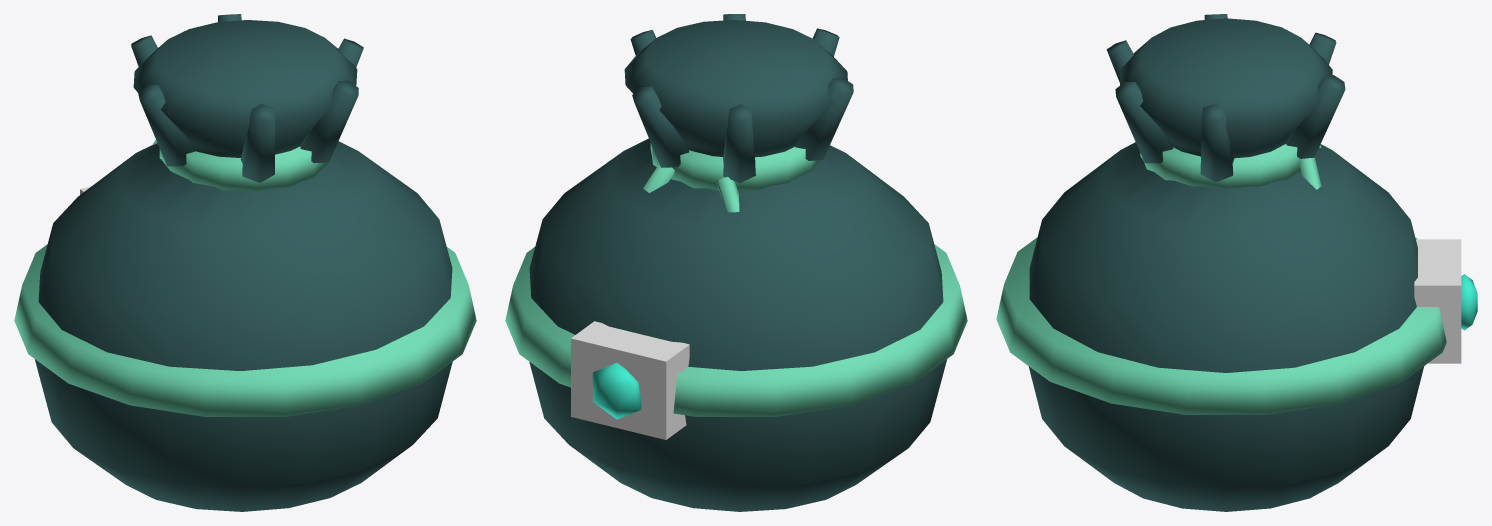
The model's file is moon_lord_treasure_bag.glb.
3 renders of one model, left to right at view 1: azimuth 30°, elevation 25°; view 2: azimuth 150°, elevation 25°; view 3: azimuth 270°, elevation 25°, orthographic.
Visible parts, largest first — view 1: moon_lord_treasure_bag_v0; view 2: moon_lord_treasure_bag_v0; view 3: moon_lord_treasure_bag_v0.
Part boxes in pixels (x1,y1,x2,y2): moon_lord_treasure_bag_v0: (14, 14, 476, 511); moon_lord_treasure_bag_v0: (505, 14, 967, 511); moon_lord_treasure_bag_v0: (996, 14, 1477, 511).
Bounding box in the file's own units: 0.2895 × 0.29 × 0.3075.
